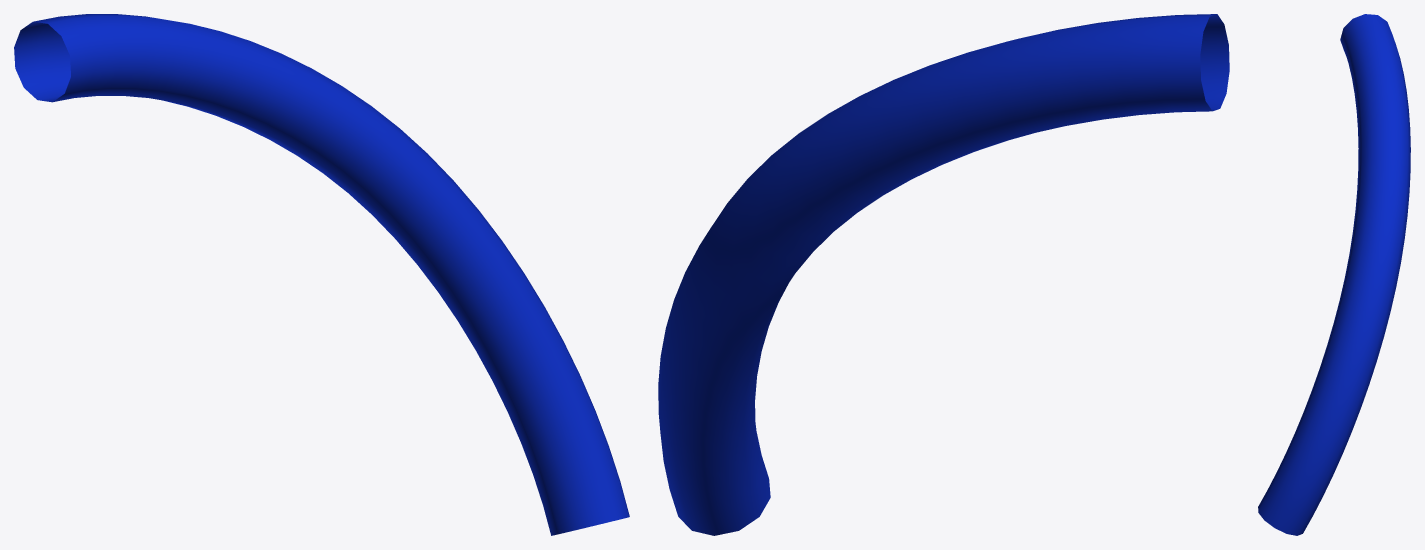
File: blue.obj
3 views of the same model, side by side, from view 1: azimuth 30°, elevation 25°; view 2: azimuth 150°, elevation 25°; view 3: azimuth 270°, elevation 25° (orthographic). The views are drawn at different scales.
Visible parts, largest first — view 1: Rainbow_Blue_0; view 2: Rainbow_Blue_0; view 3: Rainbow_Blue_0.
Part boxes in pixels (x1,y1,x2,y2): Rainbow_Blue_0: [14, 14, 629, 535]; Rainbow_Blue_0: [658, 14, 1229, 535]; Rainbow_Blue_0: [1258, 14, 1410, 535].
Bounding box in the file's own units: 0.0568 × 0.0607 × 0.0227.
